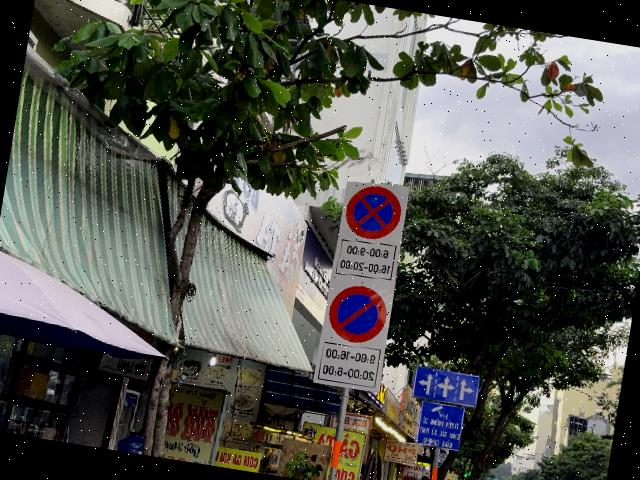cam-do-xe: (325, 282, 389, 346)
cam-dung-va-do-xe: (342, 182, 405, 244)
